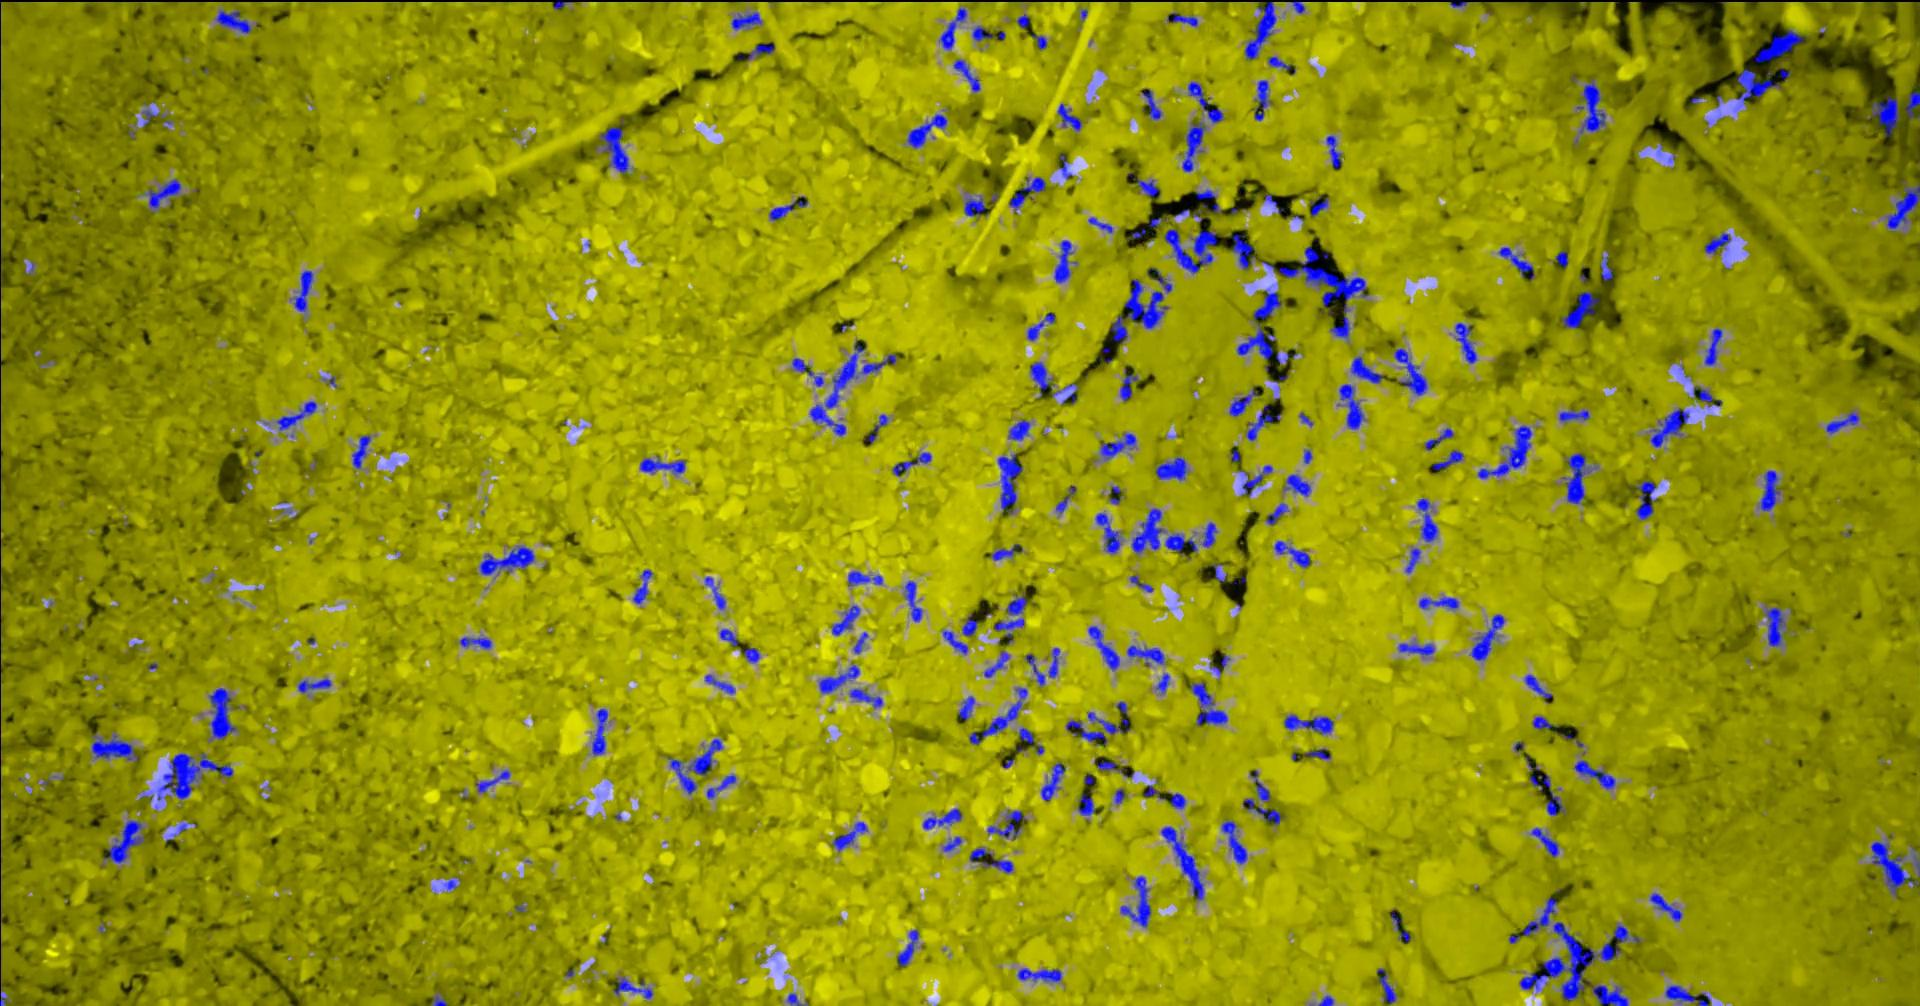ant: (811, 340, 867, 434), (970, 687, 1029, 744), (1162, 826, 1205, 899), (1067, 701, 1131, 746), (1479, 426, 1533, 478), (1872, 841, 1920, 894), (1166, 227, 1219, 273), (1526, 754, 1566, 815), (1246, 0, 1277, 58), (1238, 323, 1281, 362), (105, 821, 145, 862), (1191, 682, 1229, 725), (1756, 29, 1806, 62), (1564, 453, 1597, 503), (1470, 614, 1505, 661), (481, 545, 536, 574), (601, 119, 630, 173), (1396, 348, 1429, 395), (1652, 408, 1691, 447), (1737, 69, 1782, 103), (1189, 81, 1225, 122), (1888, 184, 1920, 231), (1123, 876, 1152, 927), (999, 453, 1023, 514), (1578, 81, 1606, 133), (1523, 897, 1559, 936), (1133, 508, 1164, 553), (1090, 625, 1121, 669), (1562, 291, 1600, 328), (211, 687, 237, 739), (1027, 647, 1062, 685), (909, 114, 949, 147), (93, 733, 138, 761), (690, 738, 724, 775), (1010, 177, 1048, 210), (1248, 404, 1283, 439), (989, 809, 1029, 840), (1183, 122, 1208, 171), (1576, 760, 1617, 789), (1500, 246, 1535, 279), (820, 666, 861, 694), (1340, 384, 1365, 428), (1223, 819, 1248, 864), (941, 8, 968, 50), (669, 756, 698, 794), (278, 401, 317, 429), (1630, 480, 1658, 520), (149, 179, 182, 212), (1873, 97, 1900, 137), (1244, 798, 1283, 826), (834, 821, 869, 851), (971, 848, 1015, 873), (1275, 540, 1312, 567), (893, 452, 933, 476), (1055, 240, 1078, 282), (770, 196, 809, 220), (1097, 513, 1121, 553), (1285, 714, 1335, 733), (1031, 361, 1057, 398), (792, 358, 825, 386), (1043, 762, 1067, 800), (1667, 984, 1712, 1005), (615, 976, 654, 998), (1244, 465, 1274, 495), (1233, 232, 1257, 269), (1651, 893, 1683, 921), (955, 58, 982, 91), (1457, 323, 1478, 363), (1418, 498, 1439, 541), (1102, 433, 1137, 459), (641, 455, 687, 474), (833, 605, 861, 635), (1531, 827, 1559, 857), (1352, 356, 1384, 382), (217, 9, 251, 33), (924, 808, 963, 829), (1255, 290, 1283, 319), (1230, 389, 1260, 417), (898, 929, 919, 965), (1526, 674, 1554, 702), (593, 708, 610, 754), (295, 271, 314, 311), (1763, 470, 1782, 511), (1592, 984, 1630, 1005), (477, 770, 510, 793), (1768, 607, 1787, 647), (1128, 645, 1164, 666), (996, 619, 1025, 644), (1157, 456, 1189, 479), (905, 580, 923, 621), (706, 575, 728, 608), (1020, 727, 1045, 754), (865, 414, 889, 443), (1705, 328, 1724, 365), (1378, 968, 1397, 1005), (863, 353, 898, 373), (634, 569, 654, 603), (1829, 412, 1860, 433), (1434, 448, 1465, 470), (1251, 768, 1272, 800), (985, 650, 1011, 677), (1426, 427, 1455, 450), (1143, 88, 1163, 119), (1166, 533, 1197, 554), (1059, 103, 1083, 130), (709, 775, 737, 798), (353, 434, 372, 467), (851, 688, 884, 708), (943, 630, 969, 654), (1256, 80, 1271, 119), (1121, 367, 1139, 400), (706, 674, 737, 694), (1285, 474, 1312, 495), (1695, 386, 1723, 406), (1057, 485, 1077, 513), (992, 542, 1023, 560), (1018, 968, 1063, 981), (1327, 135, 1343, 168), (733, 11, 763, 29), (1705, 232, 1732, 253), (1420, 596, 1460, 608), (974, 25, 1007, 41), (1079, 793, 1097, 821), (747, 43, 776, 60), (850, 572, 884, 586), (298, 678, 333, 692), (1270, 56, 1297, 74), (1399, 643, 1436, 655), (1267, 503, 1289, 525), (1010, 419, 1031, 439), (1138, 177, 1161, 196), (959, 695, 977, 719), (1168, 11, 1199, 25), (1098, 760, 1126, 775), (1175, 208, 1203, 222), (1310, 196, 1330, 216), (1561, 408, 1591, 420), (1203, 522, 1218, 547), (966, 197, 988, 215), (1131, 575, 1154, 592), (963, 614, 979, 636), (1090, 217, 1114, 232), (1407, 547, 1422, 572), (461, 636, 493, 648), (1211, 654, 1230, 673), (1008, 596, 1029, 614), (1907, 91, 1920, 118), (1145, 784, 1167, 799), (1062, 154, 1074, 179), (1534, 716, 1559, 729), (721, 627, 739, 645), (1029, 321, 1045, 340), (1064, 382, 1079, 403), (1603, 253, 1614, 279), (855, 633, 869, 653), (1170, 793, 1187, 808), (945, 836, 963, 851), (1158, 673, 1171, 694), (1307, 748, 1332, 758), (1032, 33, 1048, 50), (745, 647, 761, 662), (789, 993, 809, 1005), (1557, 250, 1570, 267), (1110, 486, 1123, 503), (1018, 13, 1031, 28), (1197, 189, 1217, 199), (554, 0, 575, 9), (1291, 0, 1305, 13), (1116, 788, 1128, 803), (1319, 995, 1335, 1005), (433, 995, 448, 1005), (1451, 0, 1470, 8)
